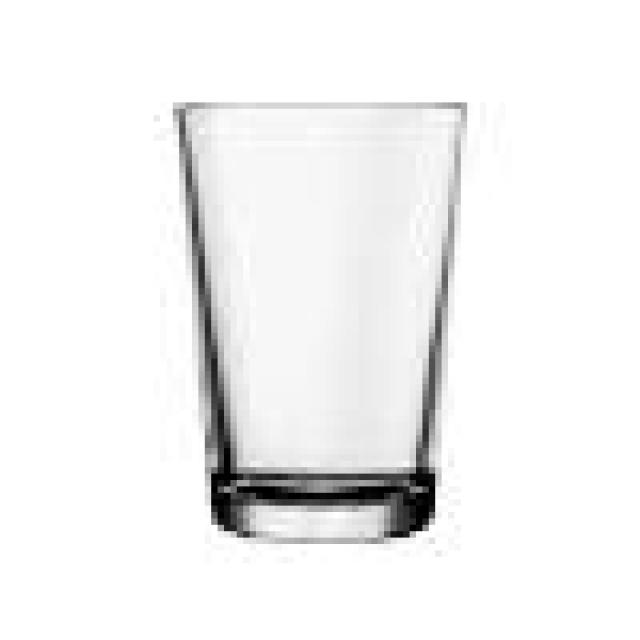Dry Waste: (168, 96, 468, 546)
